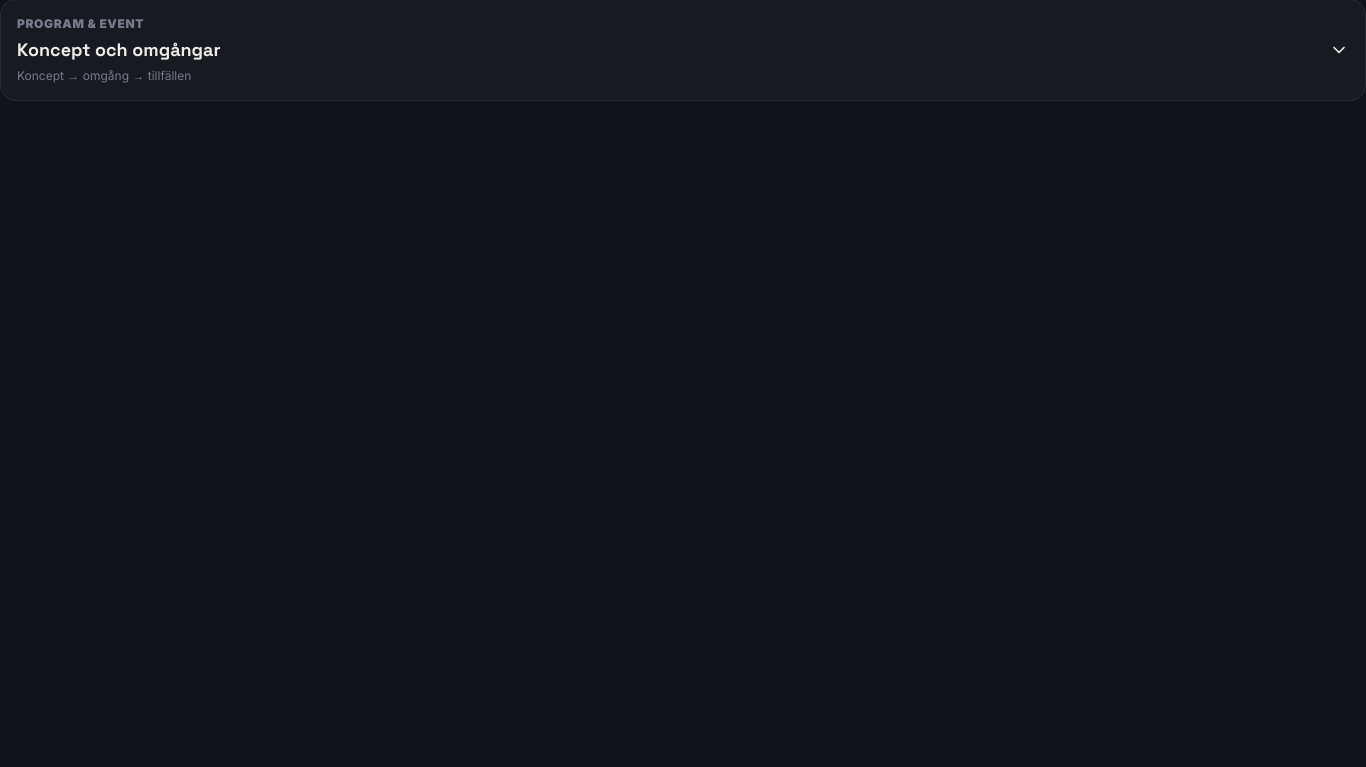
Test: Course V1 Admin › uses the existing Schedule surface for Format, Series and Session preview
This screenshot has width=1366, height=767.
Click the button "Program": coordinates (81, 24) [17,16,1349,84]
(page scrolled)
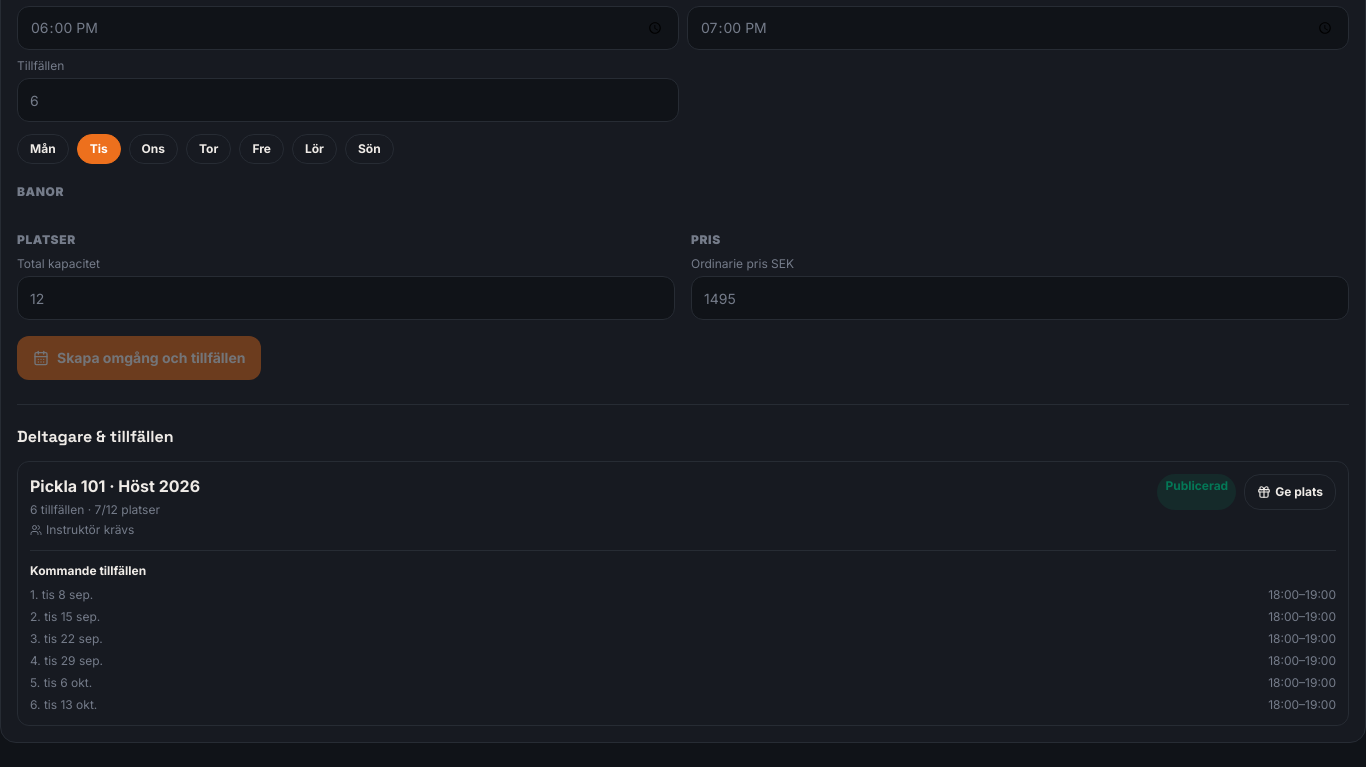
Expected: the text "6 tillfällen · 7/12 platser" is shown, [30,502,160,517]
Expected: the text "Instruktör krävs" is shown, [30,522,134,537]
Expected: the text "Kommande tillfällen" is shown, [30,563,146,578]
